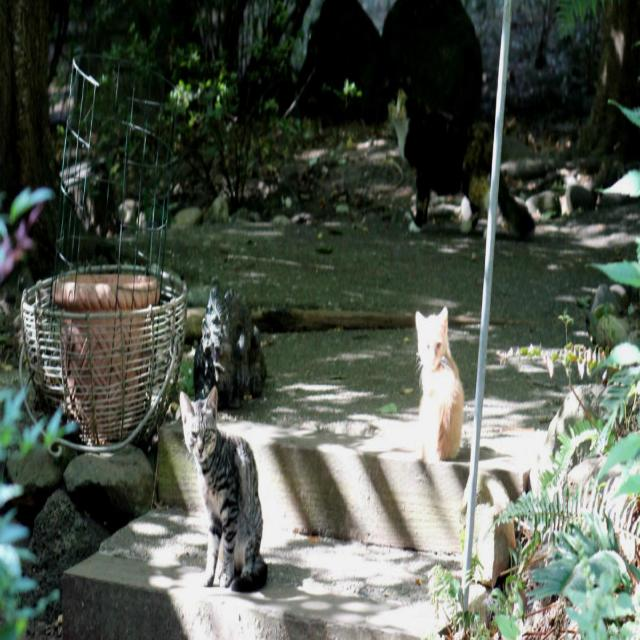cat: (180, 388, 268, 593), (389, 90, 492, 232), (415, 307, 464, 462), (499, 176, 532, 236)
